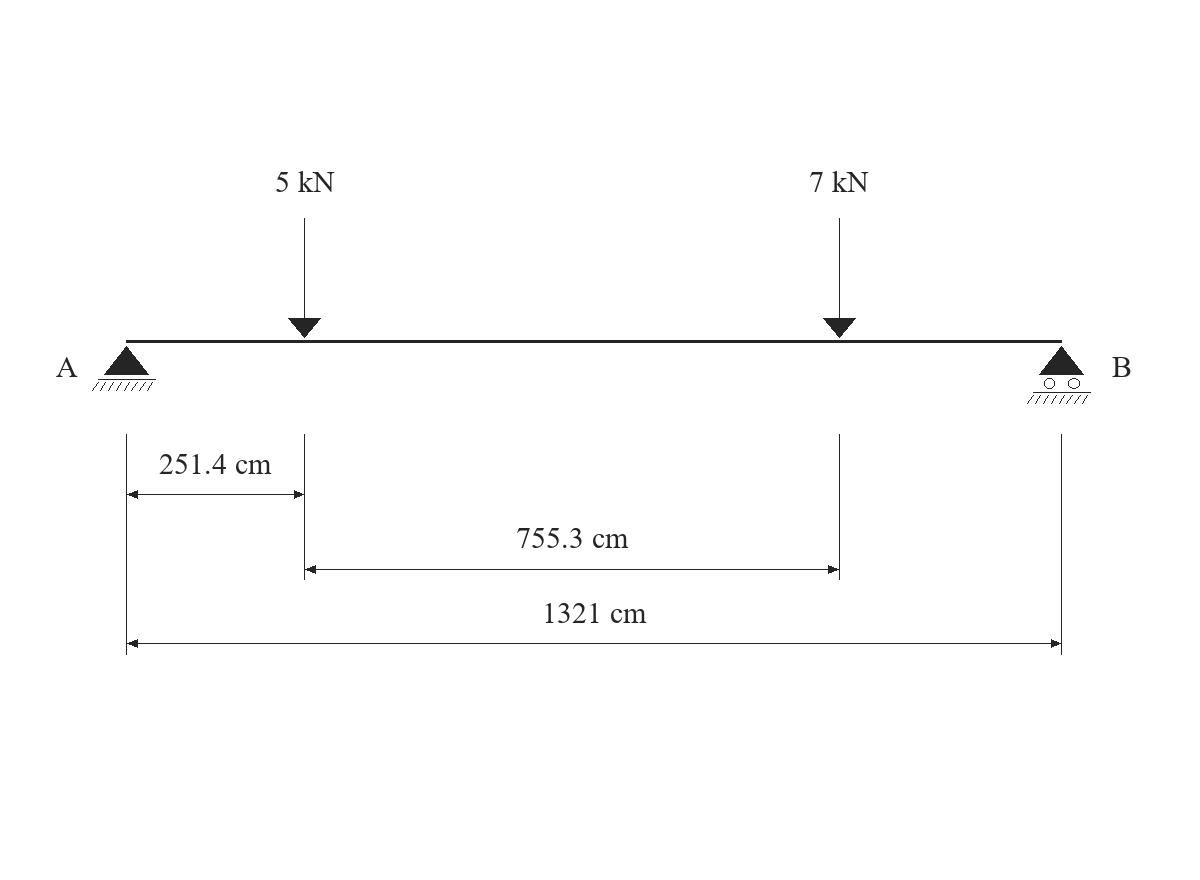pin_support: (92, 346, 156, 391)
point_load: (288, 218, 321, 338), (823, 218, 856, 338)
roller_support: (1027, 346, 1091, 404)
